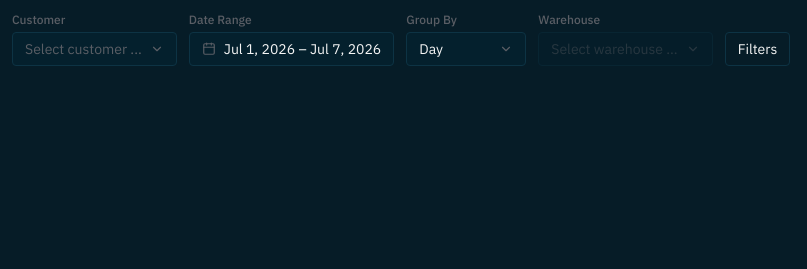
Test case: WarehouseAnalysisFilters › renders Group By options including Hour
Click the text "Group By" at (432, 20), box [406,12,457,27]
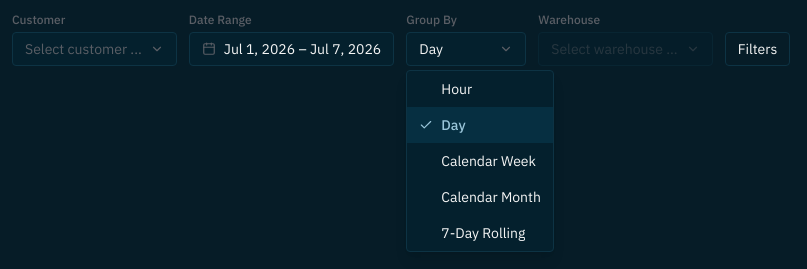
Check: the text "Hour" is shown, box [441,79,472,99]
